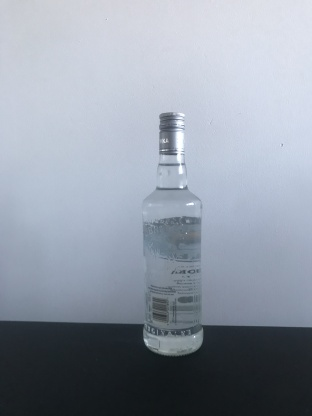nakretka: (157, 110, 186, 155)
